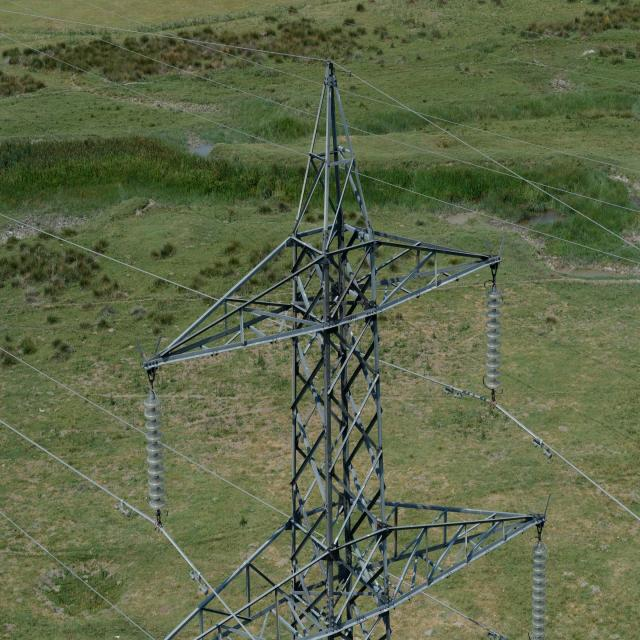voltage_line: (124, 59, 541, 640)
